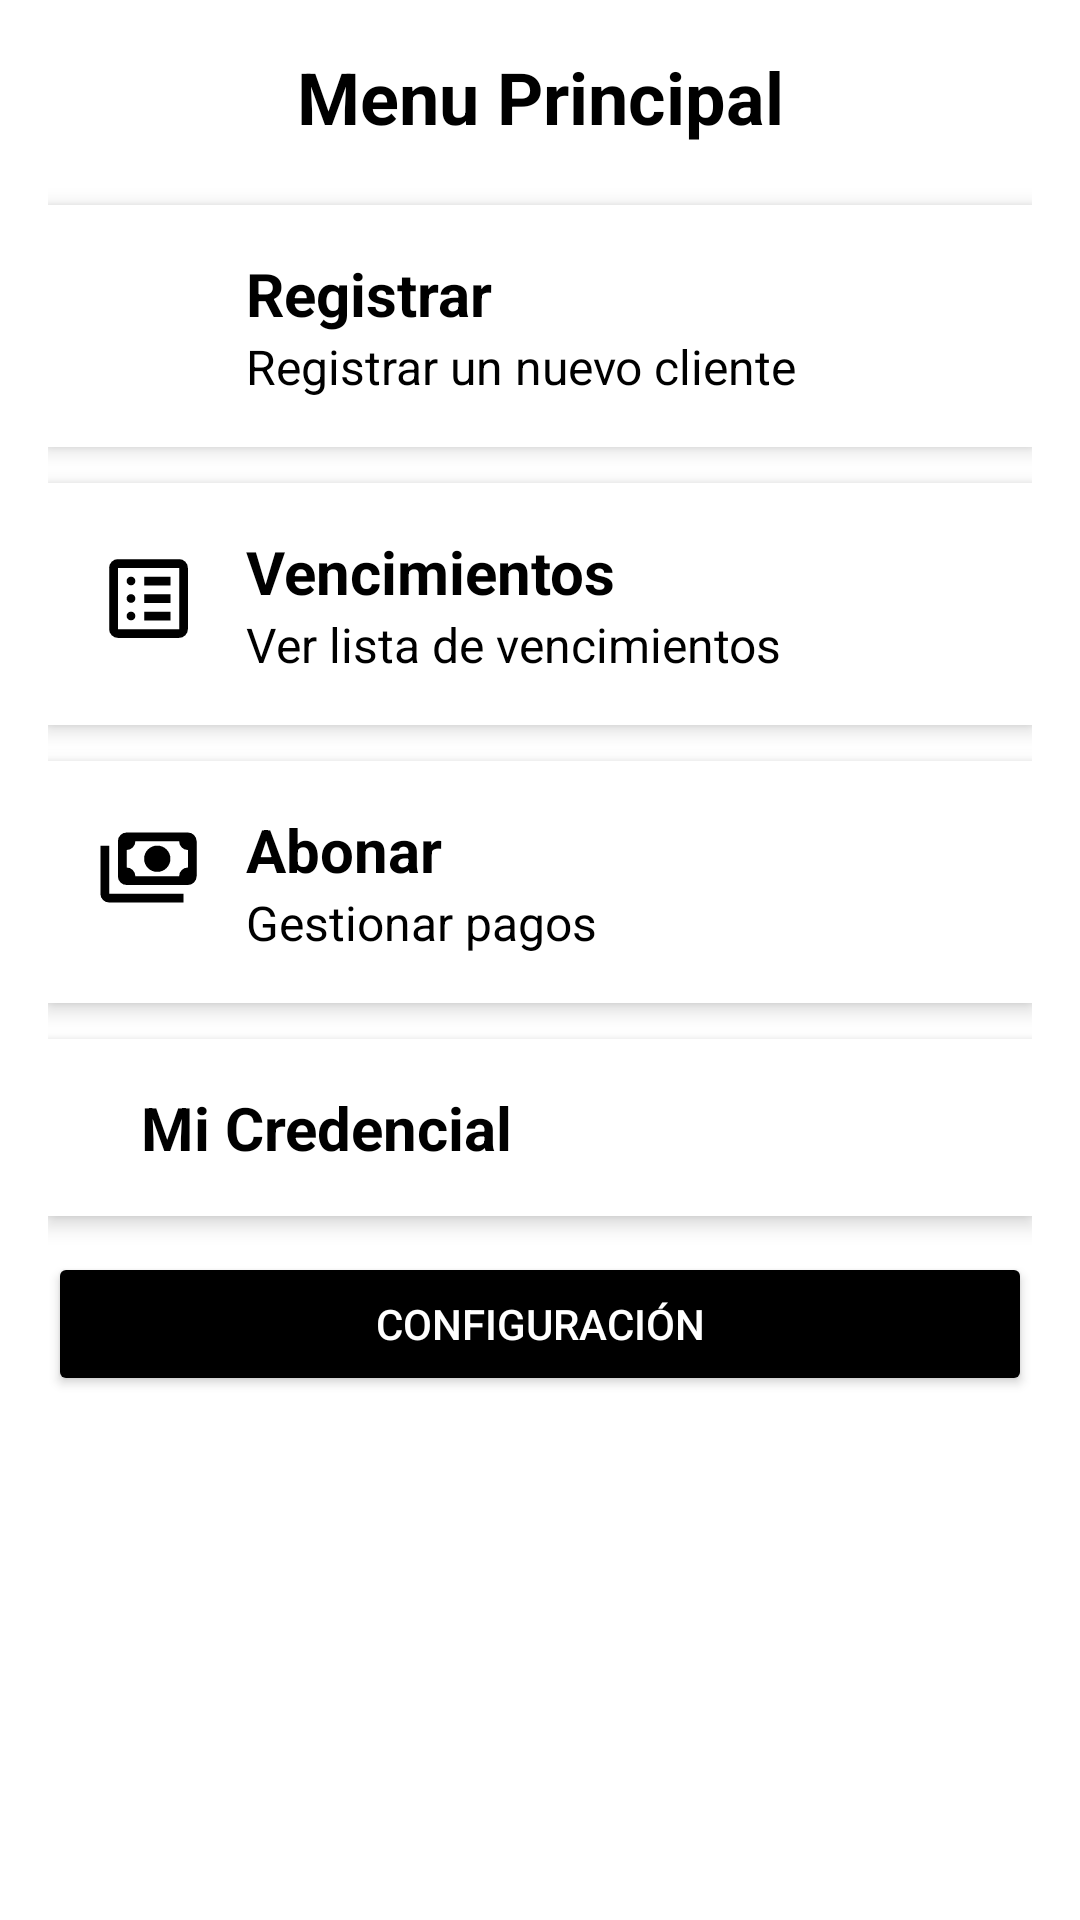

Where icons sit on this 1080×1920 app screen, as (x1, y1, x2, y2):
pay: (100, 832, 197, 903)
